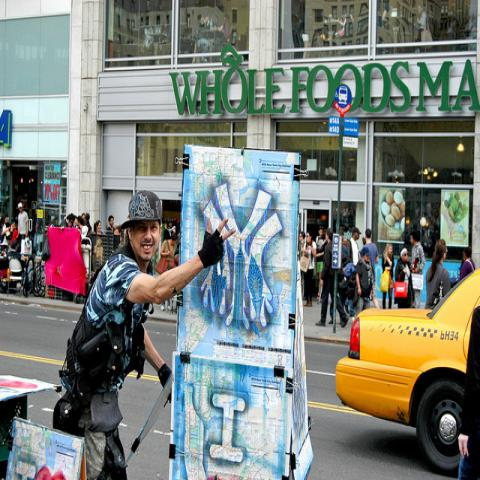car: (334, 266, 479, 474)
